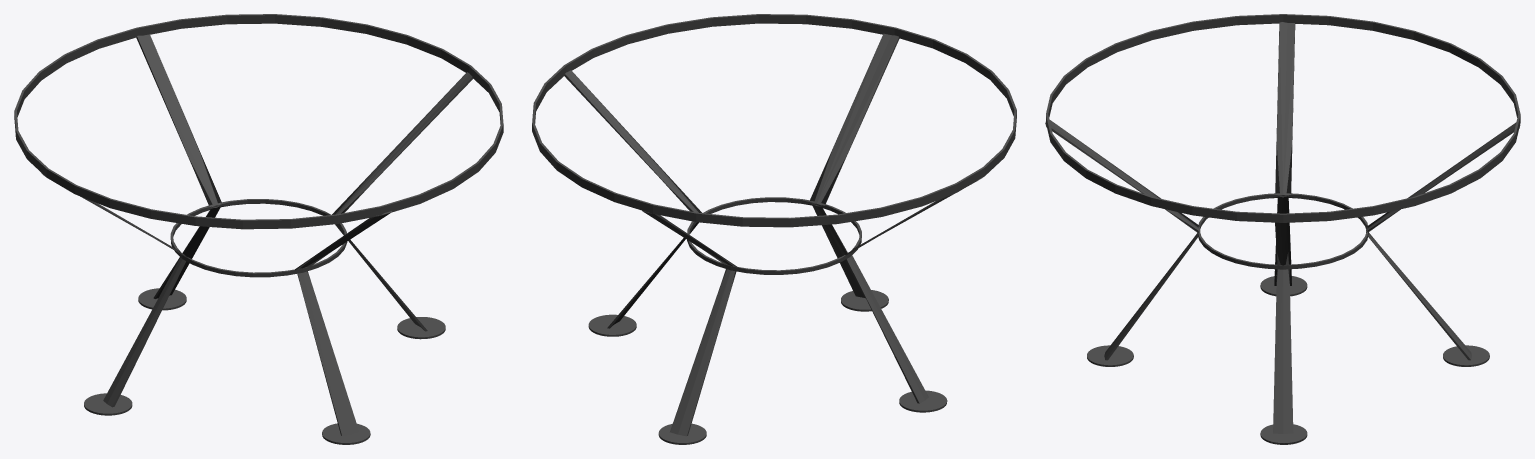
File: table.dae
3 renders of one model, left to right at view 1: azimuth 30°, elevation 25°; view 2: azimuth 150°, elevation 25°; view 3: azimuth 270°, elevation 25°, orthographic. The views are drawn at different scales.
Visible parts, largest first — view 1: Circle; view 2: Circle; view 3: Circle.
Boxes of the visible parts, <box> form: Circle: <box>14,14,503,444</box>; Circle: <box>532,14,1016,444</box>; Circle: <box>1045,14,1520,444</box>.
Bounding box in the file's own units: 0.6609 × 0.6615 × 0.3752.
1 material, 1 textured.
